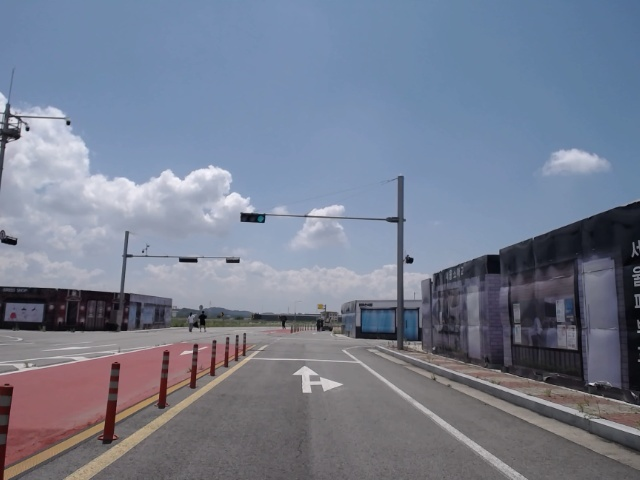green_3: (241, 214, 265, 222)
